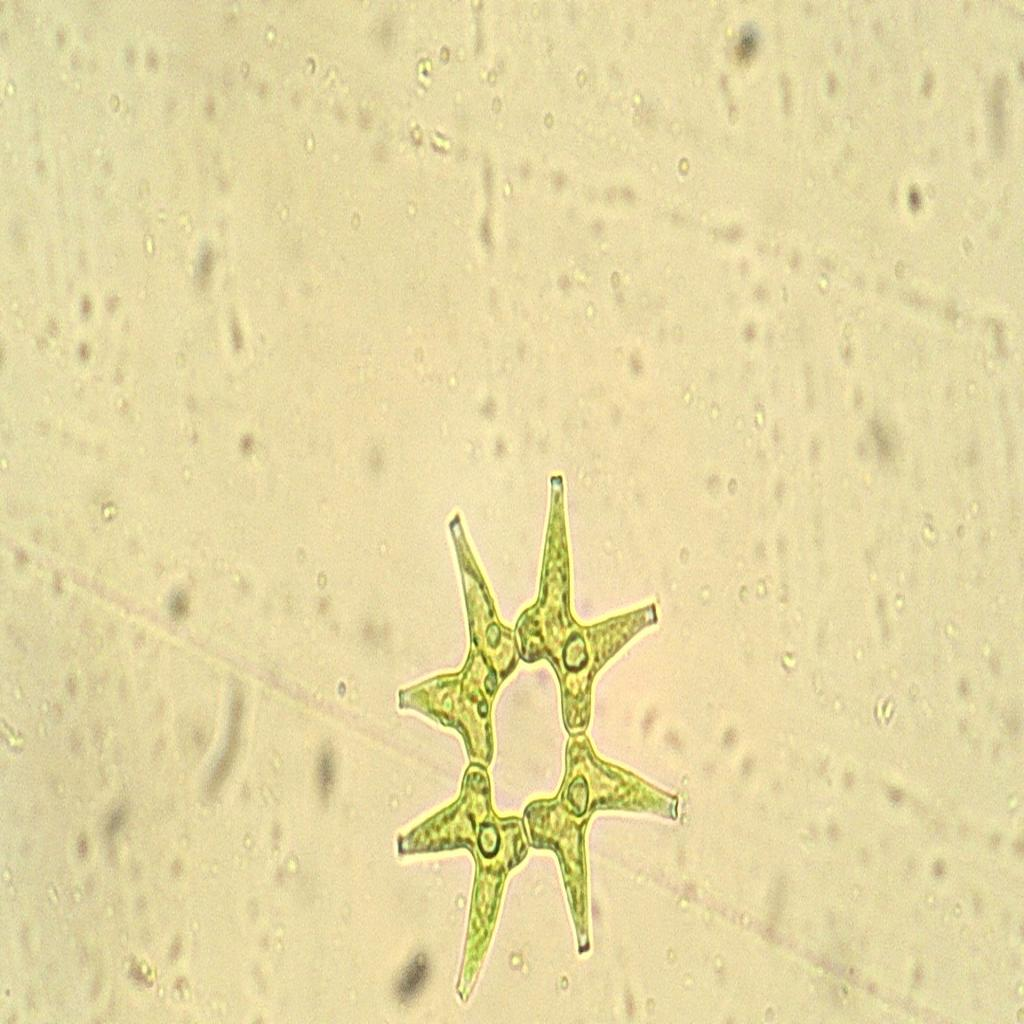Pediastrum_10: (365, 462, 696, 1020)
